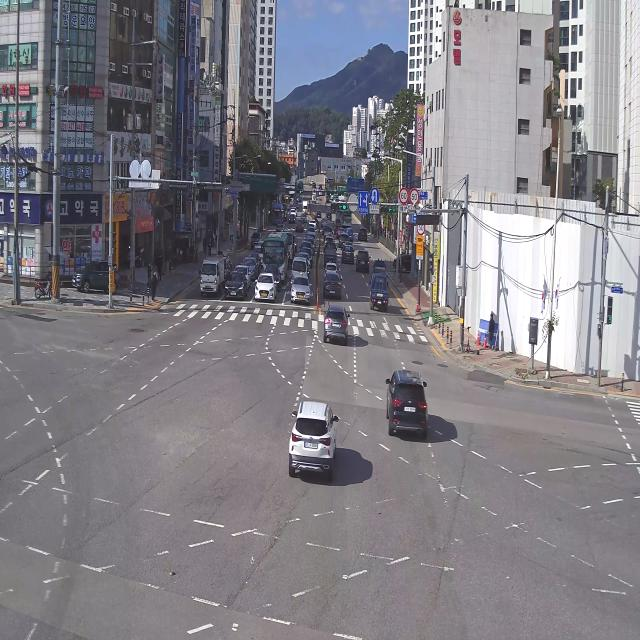Bus: (264, 232, 288, 288), (335, 208, 353, 230), (270, 203, 285, 224), (297, 178, 304, 194), (284, 194, 290, 210)
Car: (281, 386, 337, 484), (382, 366, 432, 441), (68, 249, 122, 298), (315, 303, 353, 350), (252, 270, 278, 304), (288, 272, 312, 308), (222, 268, 248, 300), (236, 247, 257, 281), (321, 271, 344, 302), (354, 247, 370, 276), (394, 252, 414, 274), (221, 250, 234, 280), (341, 243, 355, 267), (252, 242, 265, 264), (250, 251, 261, 275), (356, 226, 369, 245), (298, 251, 310, 271), (301, 247, 313, 264), (273, 219, 285, 235), (323, 264, 339, 276), (250, 230, 262, 245), (300, 241, 313, 254), (294, 219, 305, 233), (306, 235, 315, 252), (346, 226, 355, 242), (340, 232, 349, 248), (334, 226, 344, 238), (307, 234, 317, 246), (287, 212, 296, 225), (323, 237, 336, 246), (308, 217, 318, 228), (298, 212, 308, 222), (322, 223, 331, 234), (314, 209, 322, 220), (324, 211, 332, 222), (307, 227, 318, 235), (291, 206, 298, 217), (290, 208, 297, 218), (308, 222, 316, 230), (321, 217, 328, 226), (294, 200, 300, 209), (296, 194, 302, 203), (318, 181, 323, 190), (312, 180, 316, 189), (310, 179, 314, 184)
Truck: (196, 254, 225, 298), (367, 269, 392, 314), (289, 258, 308, 278), (323, 242, 339, 264), (372, 258, 389, 276), (286, 230, 295, 260), (300, 199, 310, 217), (323, 226, 334, 238), (311, 194, 317, 205), (312, 188, 317, 197)
